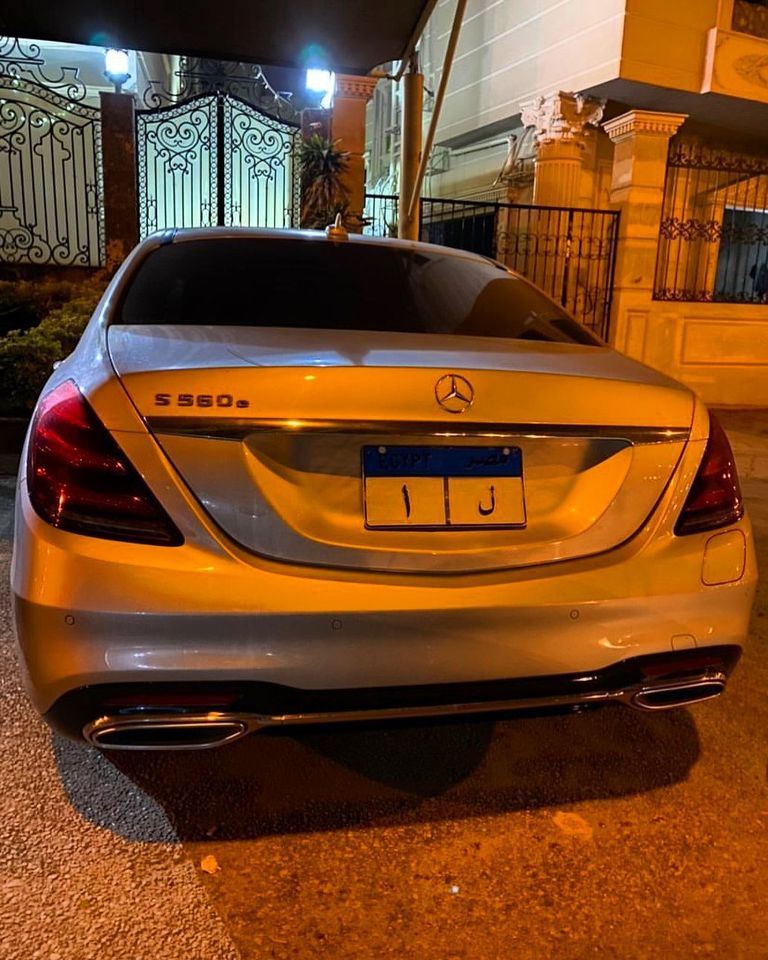carpl: (363, 446, 522, 525)
